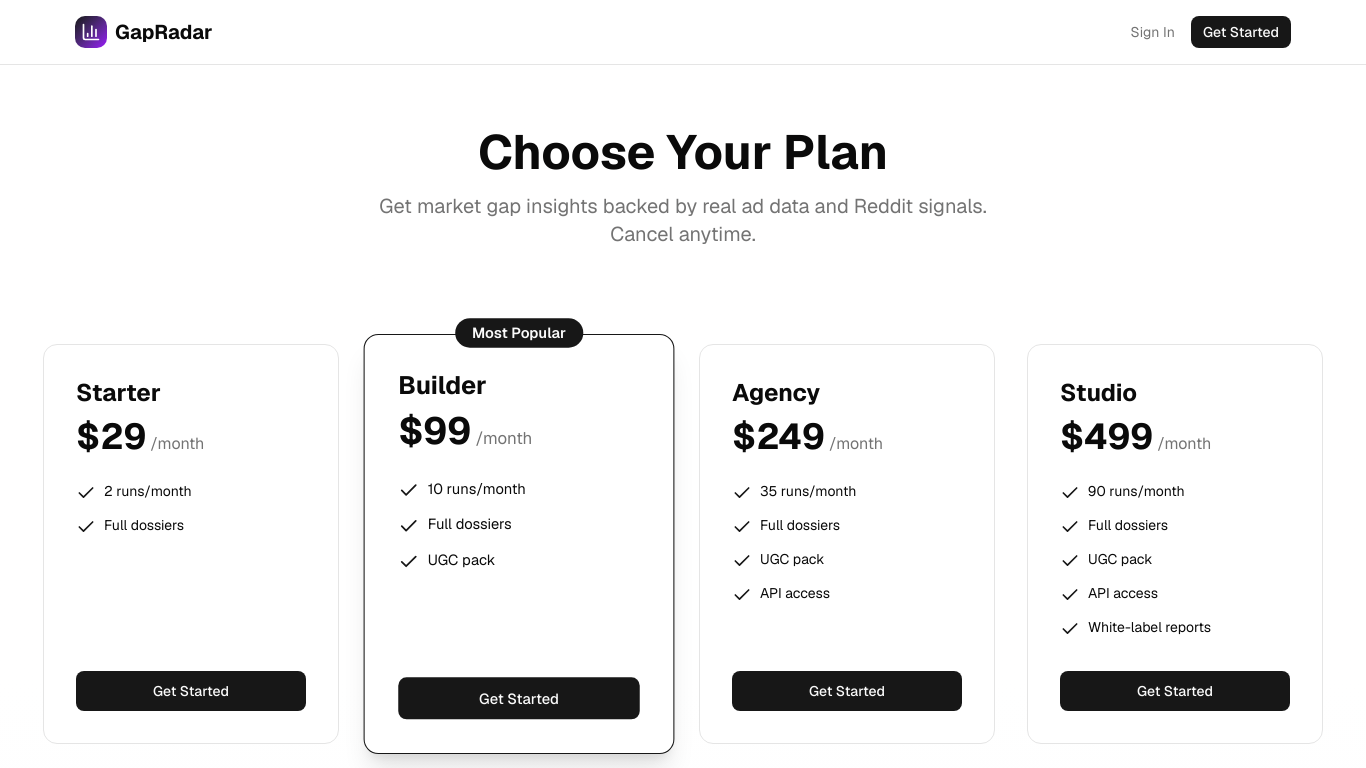
Test: Pricing Page › CTA Buttons › should show loading state when checkout is processing
Click the button "Get Started" below "2 runs/month". click: click(191, 691)
box: [76,671,306,711]
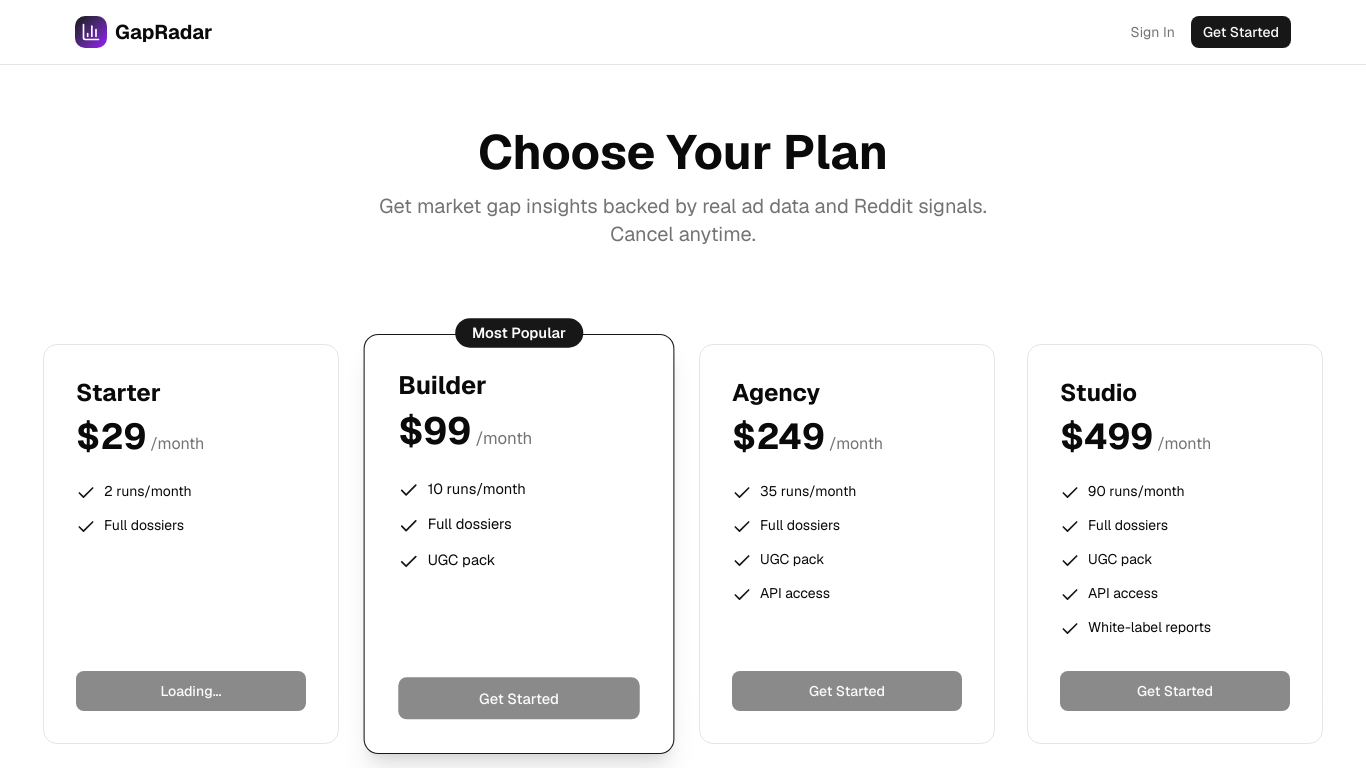
Expected: the button "Loading..." is shown, [76,671,306,711]
